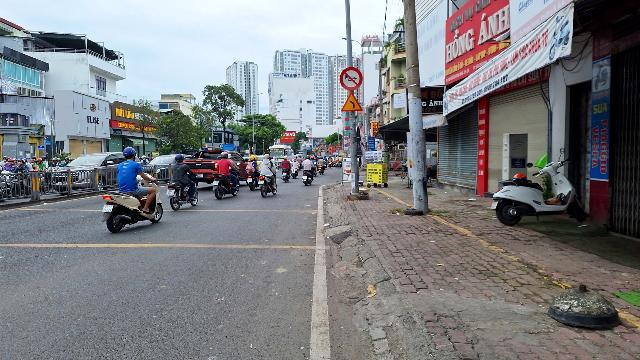cam-bop-coi: (340, 67, 363, 90)
cho-ngoat-nguy-hiem-ben-trai: (341, 91, 363, 111)
